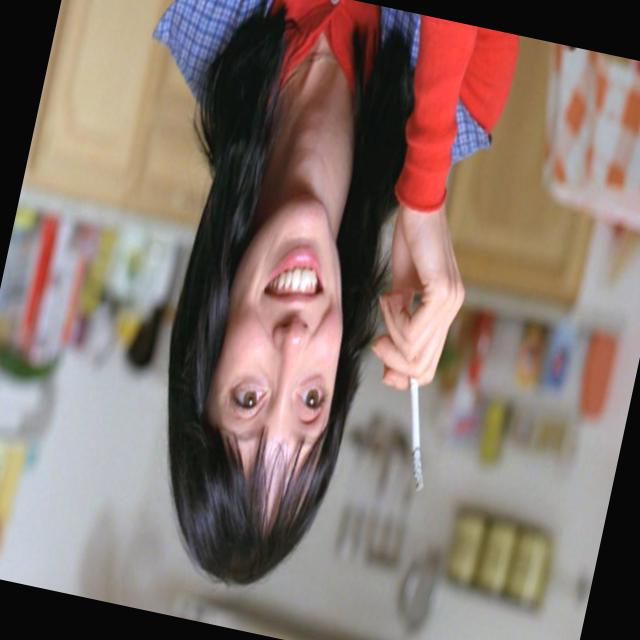smoke: (364, 310, 476, 502)
